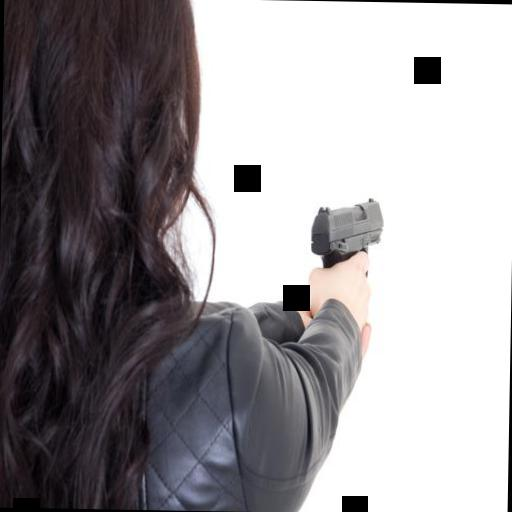Handgun: (300, 178, 400, 328)
